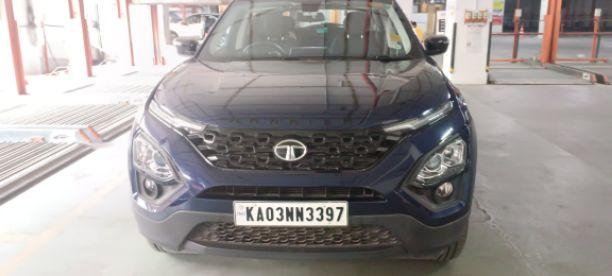license_plate: (232, 199, 349, 227)
